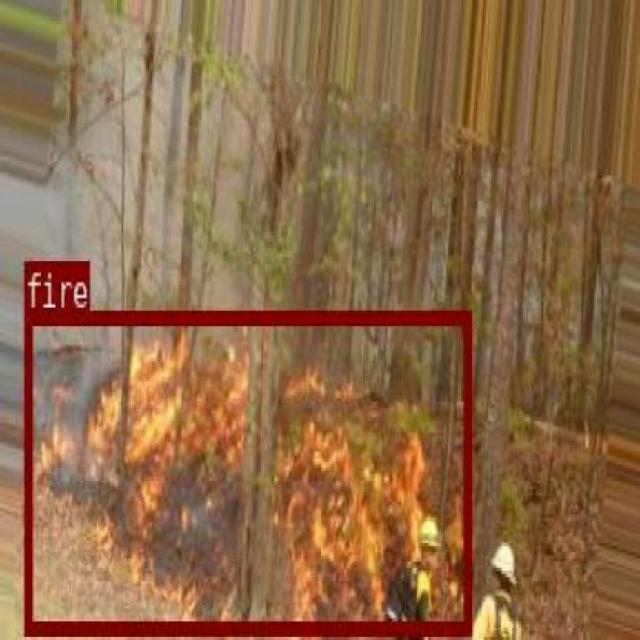Fire: (23, 309, 469, 631)
